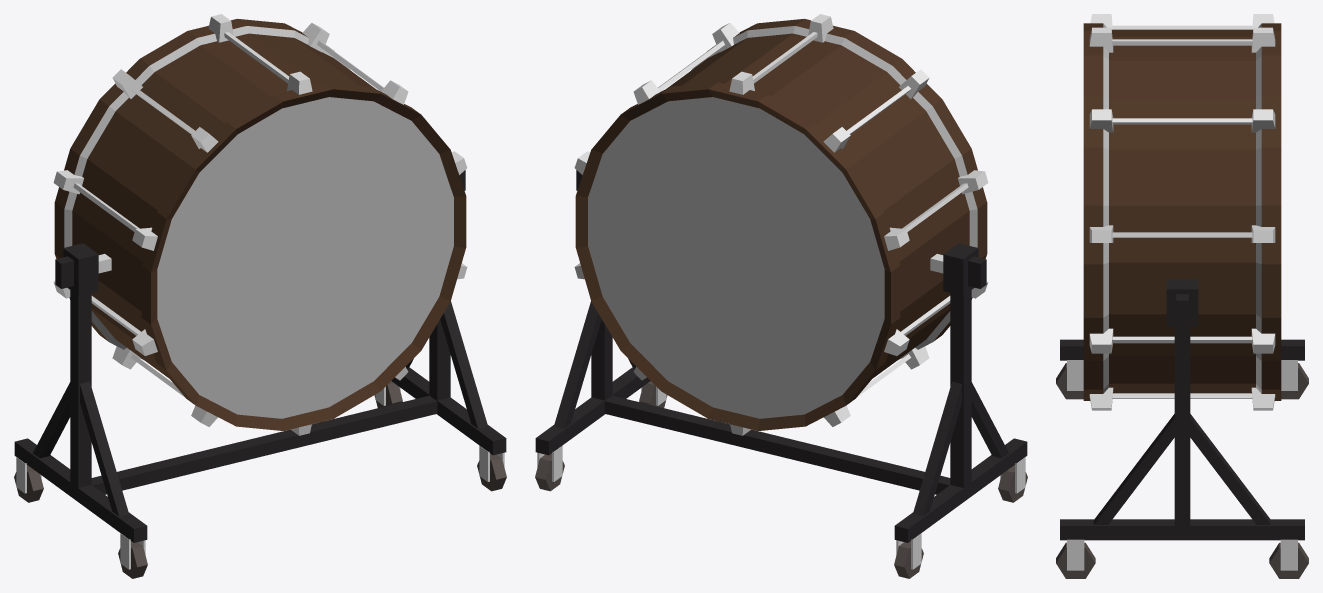
The model's file is concert-bass-drum-88ee8e.glb.
The picture shows the model from 3 angles, left to right: view 1: azimuth 30°, elevation 25°; view 2: azimuth 150°, elevation 25°; view 3: azimuth 270°, elevation 25°; orthographic projection. The views are drawn at different scales.
Parts seen in each view (by area): view 1: drum-body, cradle, drum-hardware, cradle-rubber; view 2: drum-body, cradle, drum-hardware, cradle-rubber; view 3: drum-body, cradle, drum-hardware, cradle-rubber.
Boxes of the visible parts, x1,y1,x2,y2 form: drum-body: (54,18,466,430); cradle: (14,170,506,569); drum-hardware: (53,14,467,435); cradle-rubber: (14,381,506,578); drum-body: (575,18,987,430); cradle: (535,170,1027,569); drum-hardware: (574,14,988,435); cradle-rubber: (535,381,1027,578); drum-body: (1083,23,1281,400); cradle: (1060,279,1304,570); drum-hardware: (1089,14,1275,410); cradle-rubber: (1056,363,1308,578).
Size of the model in its own units: 1.21 by 1.27 by 0.64.
